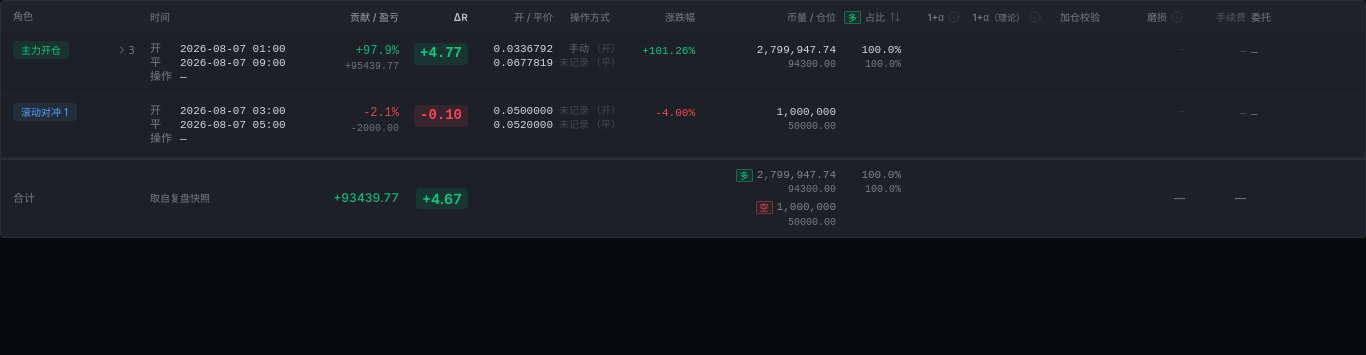
Scenario: Legs 列表的「涨跌幅」列 › 主力阶段子行与合计行 › 阶段子行按各自起止价各算各的，淡色行里仍按 /90 绿涨红跌
Click the button with test id "leg-phases-toggle-main" at (127, 50), box [113, 41, 141, 59]
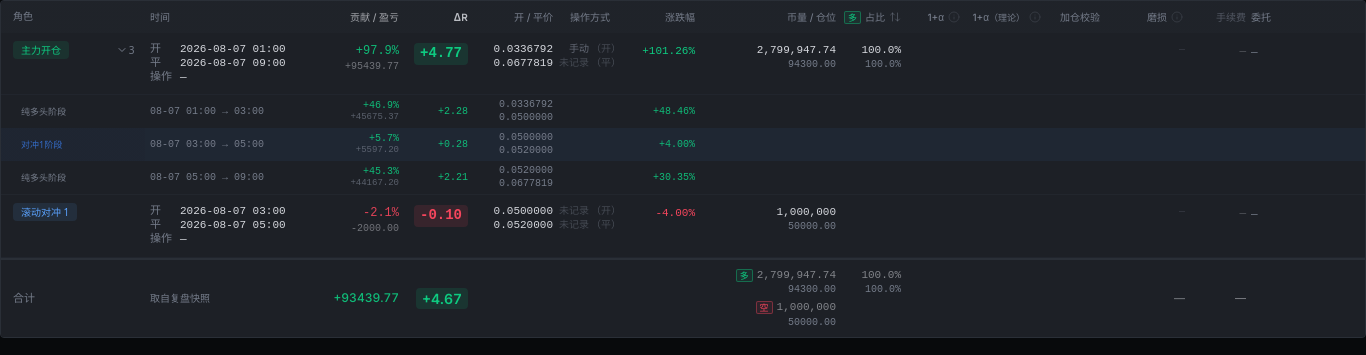
expect the text "0.0500000" next to "+2.28" is shown: met, box [499, 112, 553, 123]
expect the text with test id "leg-phase-price-change-main-1" reads "+48.46%": met, box [653, 106, 695, 117]
expect the text with test id "leg-phase-price-change-main-2" reads "+4.00%": met, box [659, 139, 695, 150]
